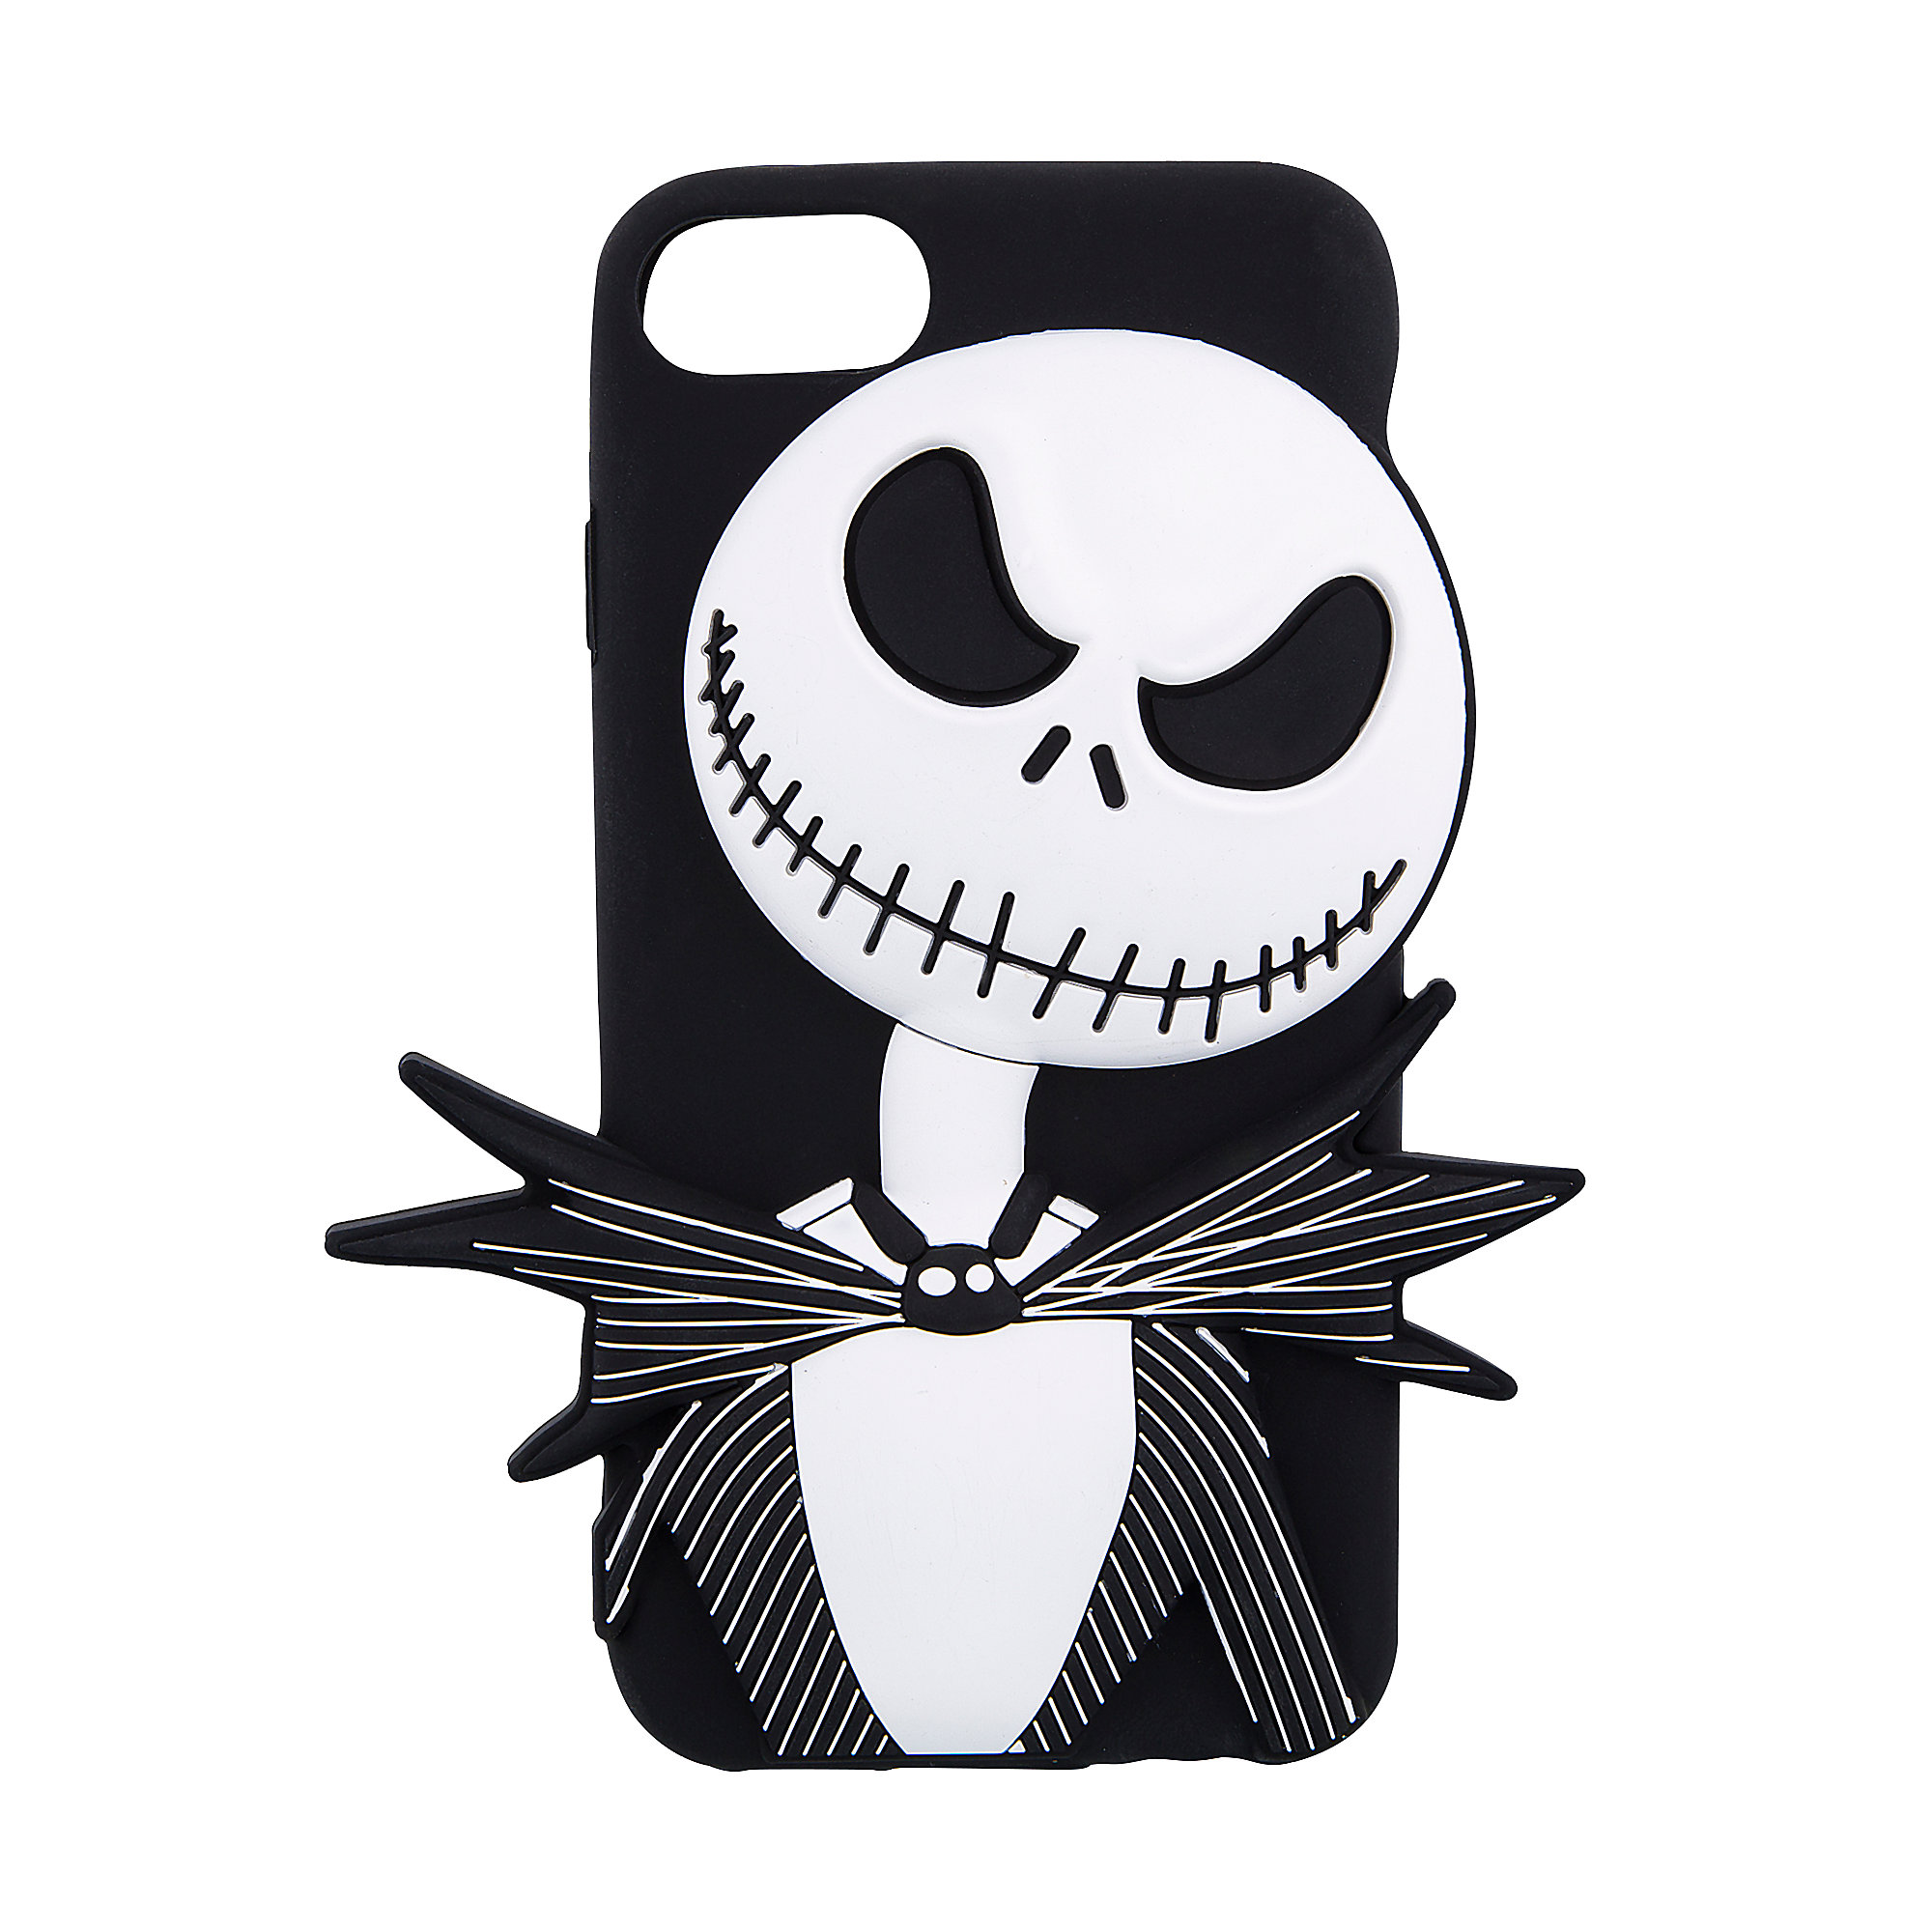Jack Skellington: (320, 324, 1589, 1767)
